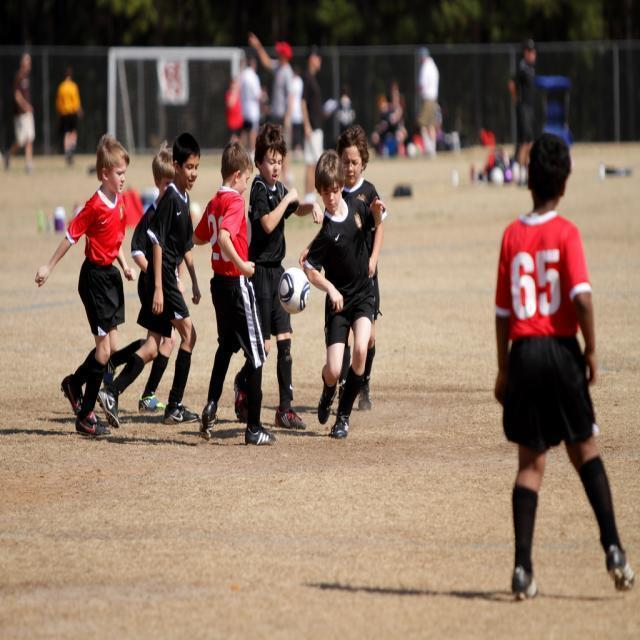ball: (279, 267, 310, 315)
